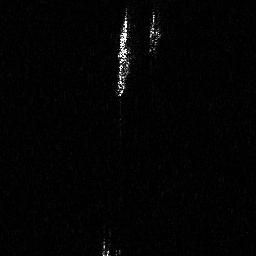ship: (114, 7, 133, 100), (147, 8, 162, 57)
